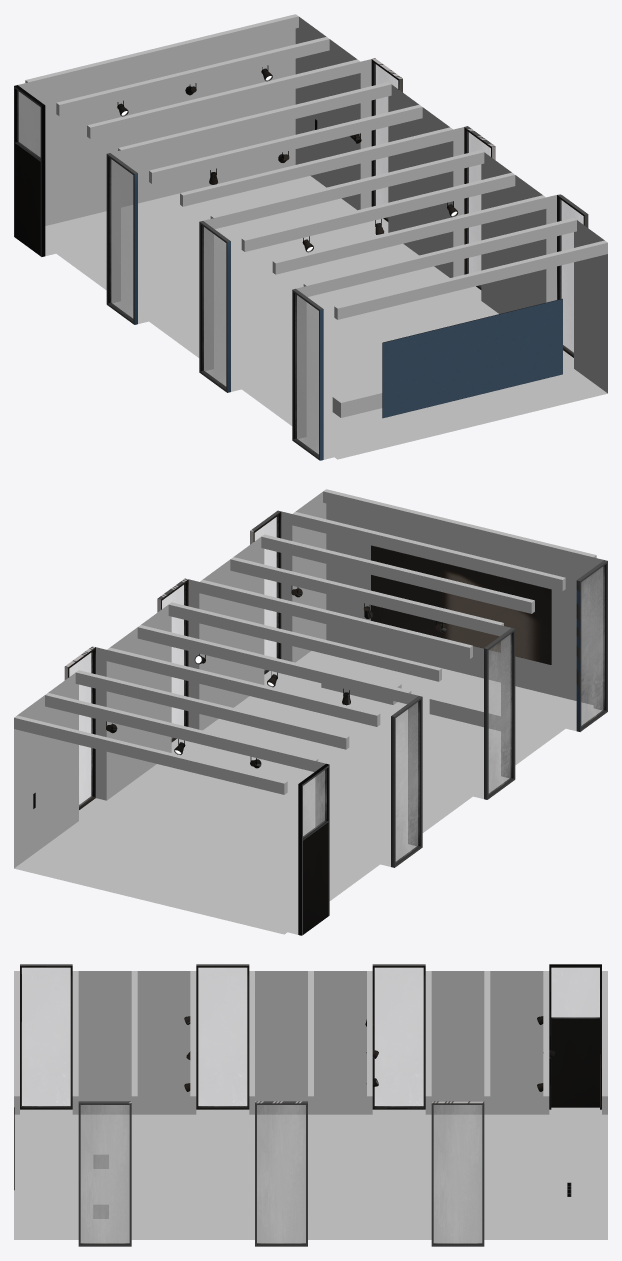
3 renders of one model, top to bottom at view 1: azimuth 30°, elevation 25°; view 2: azimuth 150°, elevation 25°; view 3: azimuth 270°, elevation 25°, orthographic. The views are drawn at different scales.
Parts seen in each view (by area): view 1: floor, walls, glass, paintiing, details; view 2: floor, walls, glass, details, paintiing; view 3: floor, walls, glass, details.
Part boxes in pixels (left/top/right/bottom): floor: left=25, top=14, right=607, bottom=459; walls: left=18, top=17, right=607, bottom=459; glass: left=17, top=63, right=583, bottom=455; paintiing: left=382, top=298, right=562, bottom=418; details: left=14, top=58, right=588, bottom=460; floor: left=14, top=489, right=596, bottom=934; walls: left=14, top=492, right=603, bottom=934; glass: left=69, top=516, right=604, bottom=862; details: left=33, top=510, right=607, bottom=935; paintiing: left=371, top=545, right=551, bottom=664; floor: left=14, top=971, right=607, bottom=1239; walls: left=14, top=971, right=607, bottom=1243; glass: left=22, top=967, right=599, bottom=1243; details: left=20, top=964, right=601, bottom=1246.
Size of the model in its own units: 327 by 157 by 591.
